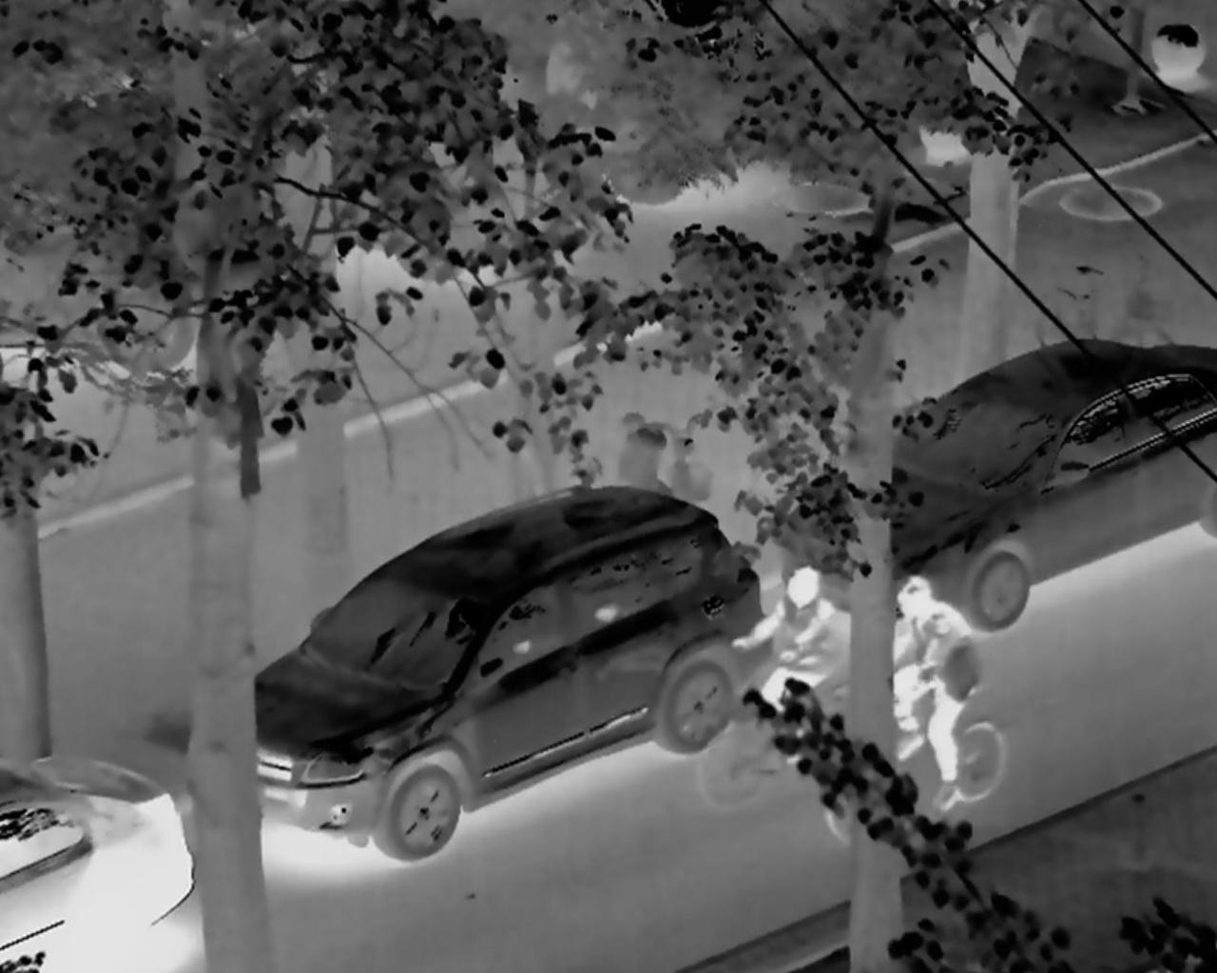person: (889, 577, 1018, 820), (720, 565, 846, 792)
